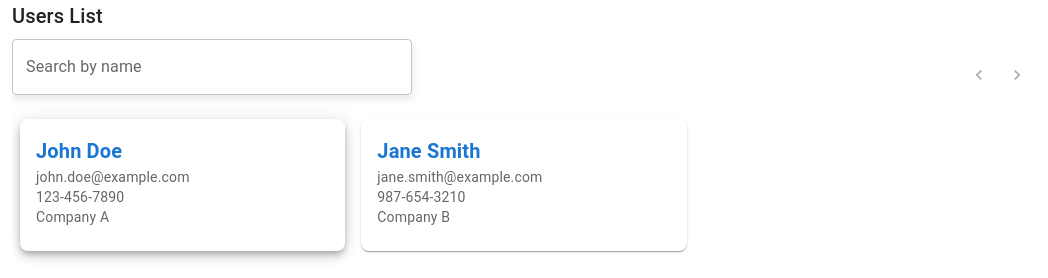
Test case: UserList Component › should filter the users based on search query
Step 1. Type "John" into the field labelled "Search by name" → x=212, y=67, box [12,39,412,95]
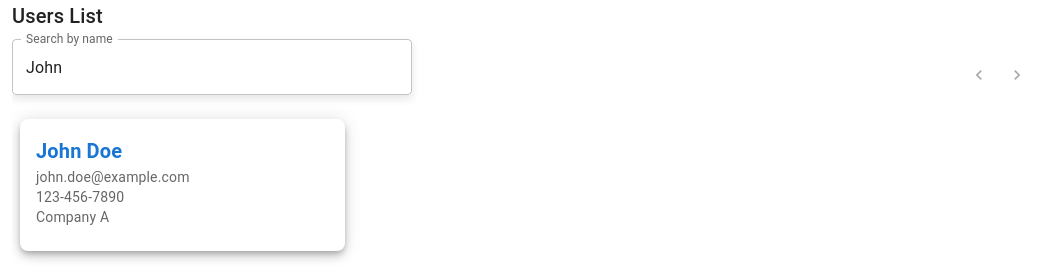
expect the heading "John Doe" is shown: met, box [36,139,122,163]
expect the heading "Jane Smith" is gone: met
